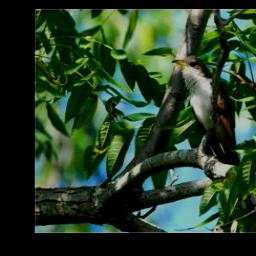Cuckoo: (172, 54, 241, 164)
